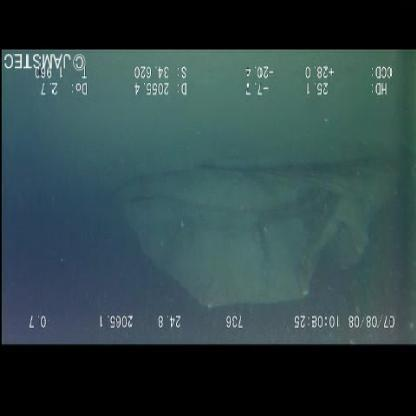Rác: (107, 150, 410, 313)
